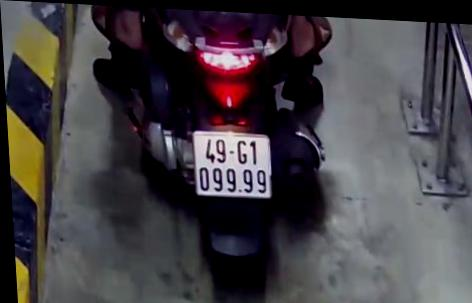License_Plate: (184, 124, 279, 202)
